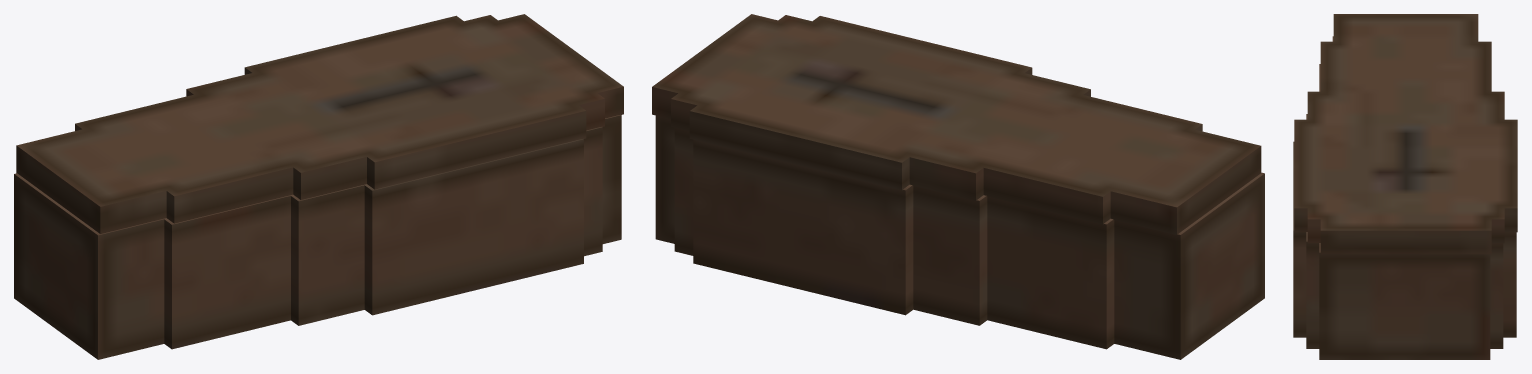
File: coffin_02 (1) #1182508.fbx
3 renders of one model, left to right at view 1: azimuth 30°, elevation 25°; view 2: azimuth 150°, elevation 25°; view 3: azimuth 270°, elevation 25°, orthographic. The views are drawn at different scales.
Parts seen in each view (by area): view 1: coffin_02, coffin02_cap; view 2: coffin_02, coffin02_cap; view 3: coffin02_cap, coffin_02.
Boxes of the visible parts, left/top/right/bottom form: coffin_02: left=14, top=114, right=621, bottom=359; coffin02_cap: left=16, top=14, right=623, bottom=233; coffin_02: left=655, top=115, right=1264, bottom=359; coffin02_cap: left=652, top=14, right=1261, bottom=234; coffin02_cap: left=1294, top=14, right=1517, bottom=254; coffin_02: left=1293, top=36, right=1516, bottom=359.
Size of the model in its own units: 2.45 by 0.6856 by 1.07.
